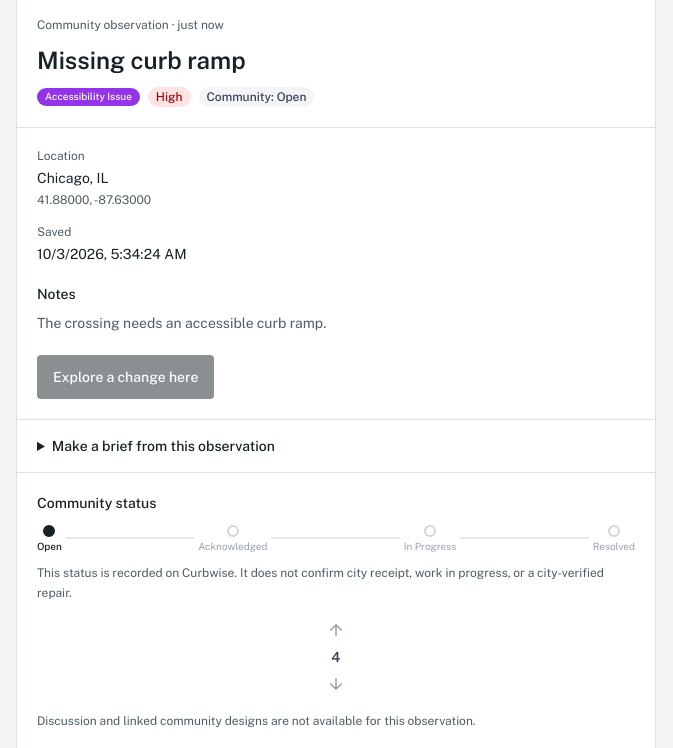
Test: community report detail actions › shows report age at 30000 ms without inventing an author
Check: the text "Community observation · just now" is shown, box [37,18,224,32]
Click the button "Explore a change here" at coordinates (126, 377), box [37,355,214,399]
(page scrolled)
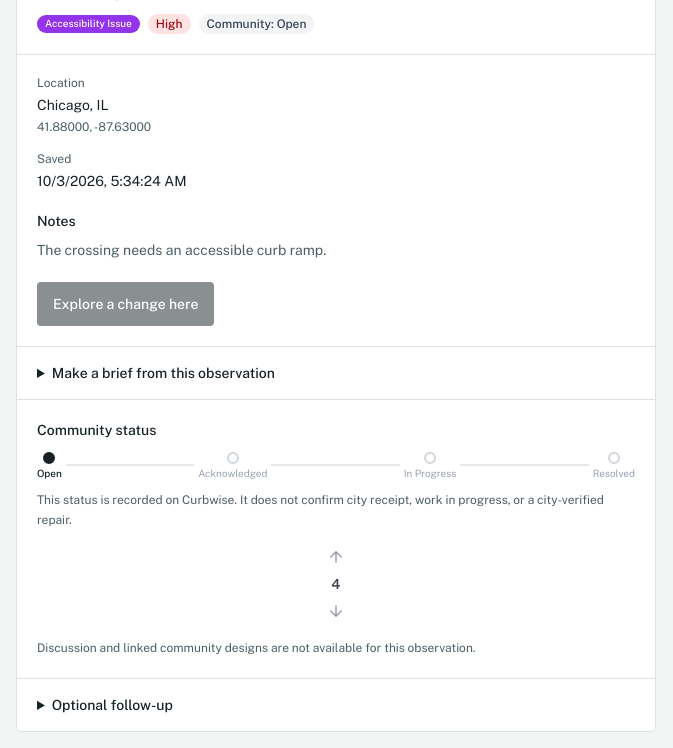
Click the heading "Optional follow-up" at coordinates (112, 705), box [52,697,173,713]
(page scrolled)
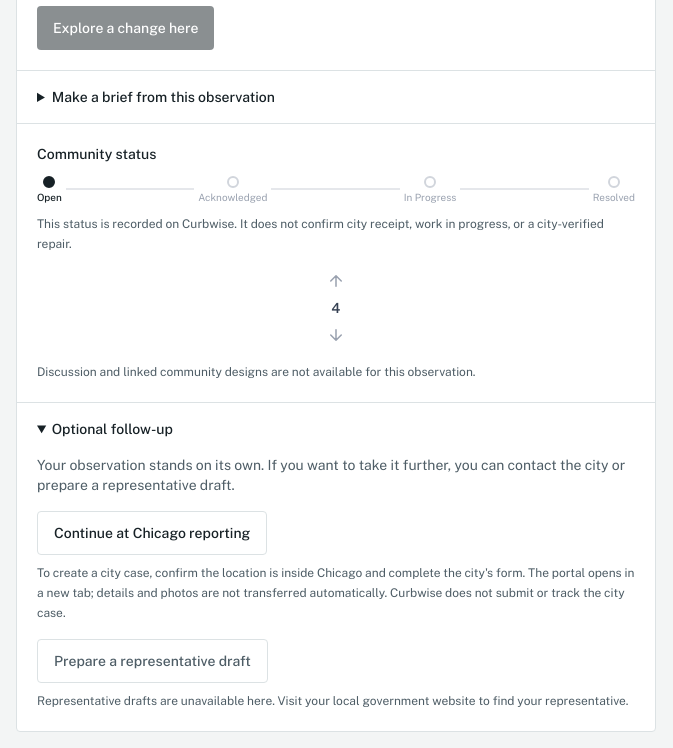
Check: the button "Prepare a representative draft" is disabled, box [37,639,268,683]
